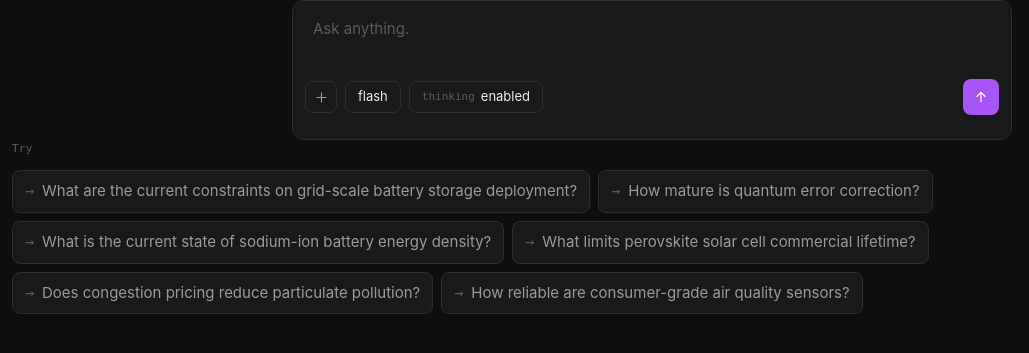
Test case: Composer › omits the reason clause on a configuration error with no reason (never invent a value)
Type "q" into the text box named "Research question" at (652, 40), box [305, 13, 999, 67]
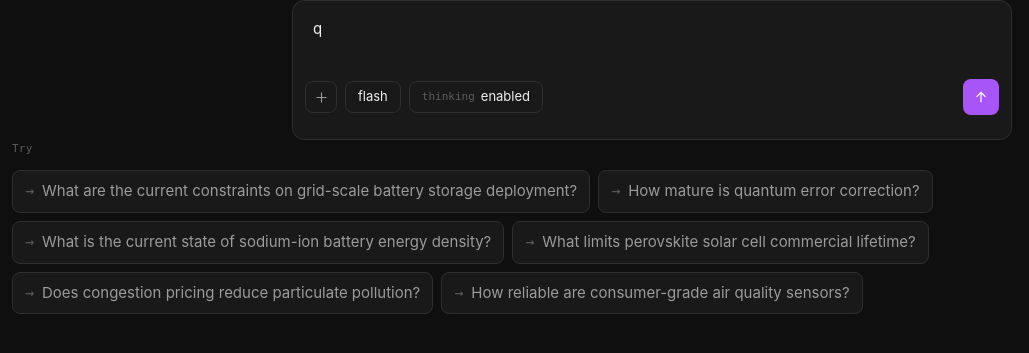
Submit the form named "Research question", box [292, 0, 1012, 140]
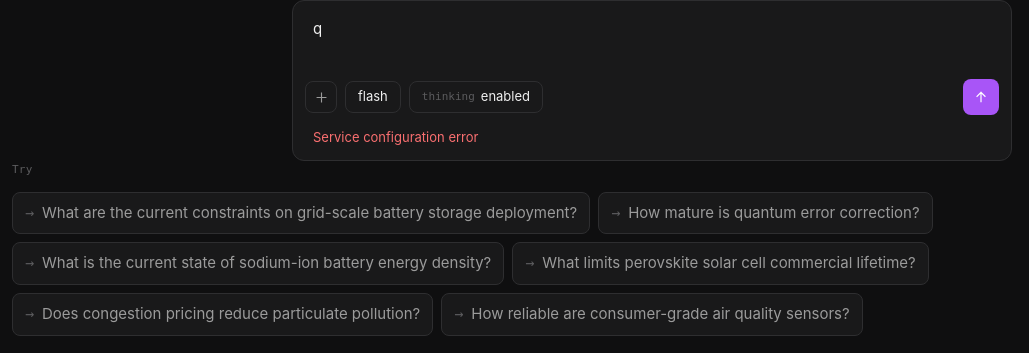
Now the message reads "Service configuration error", box [313, 129, 478, 145]
